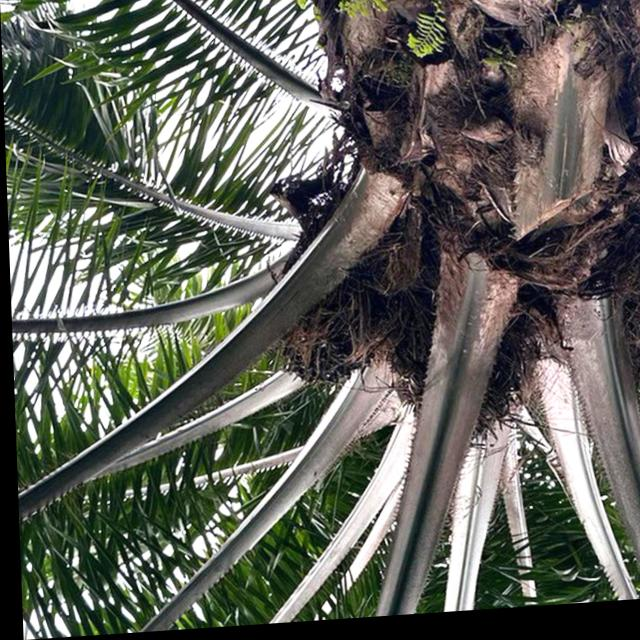unripe: (269, 273, 393, 401)
